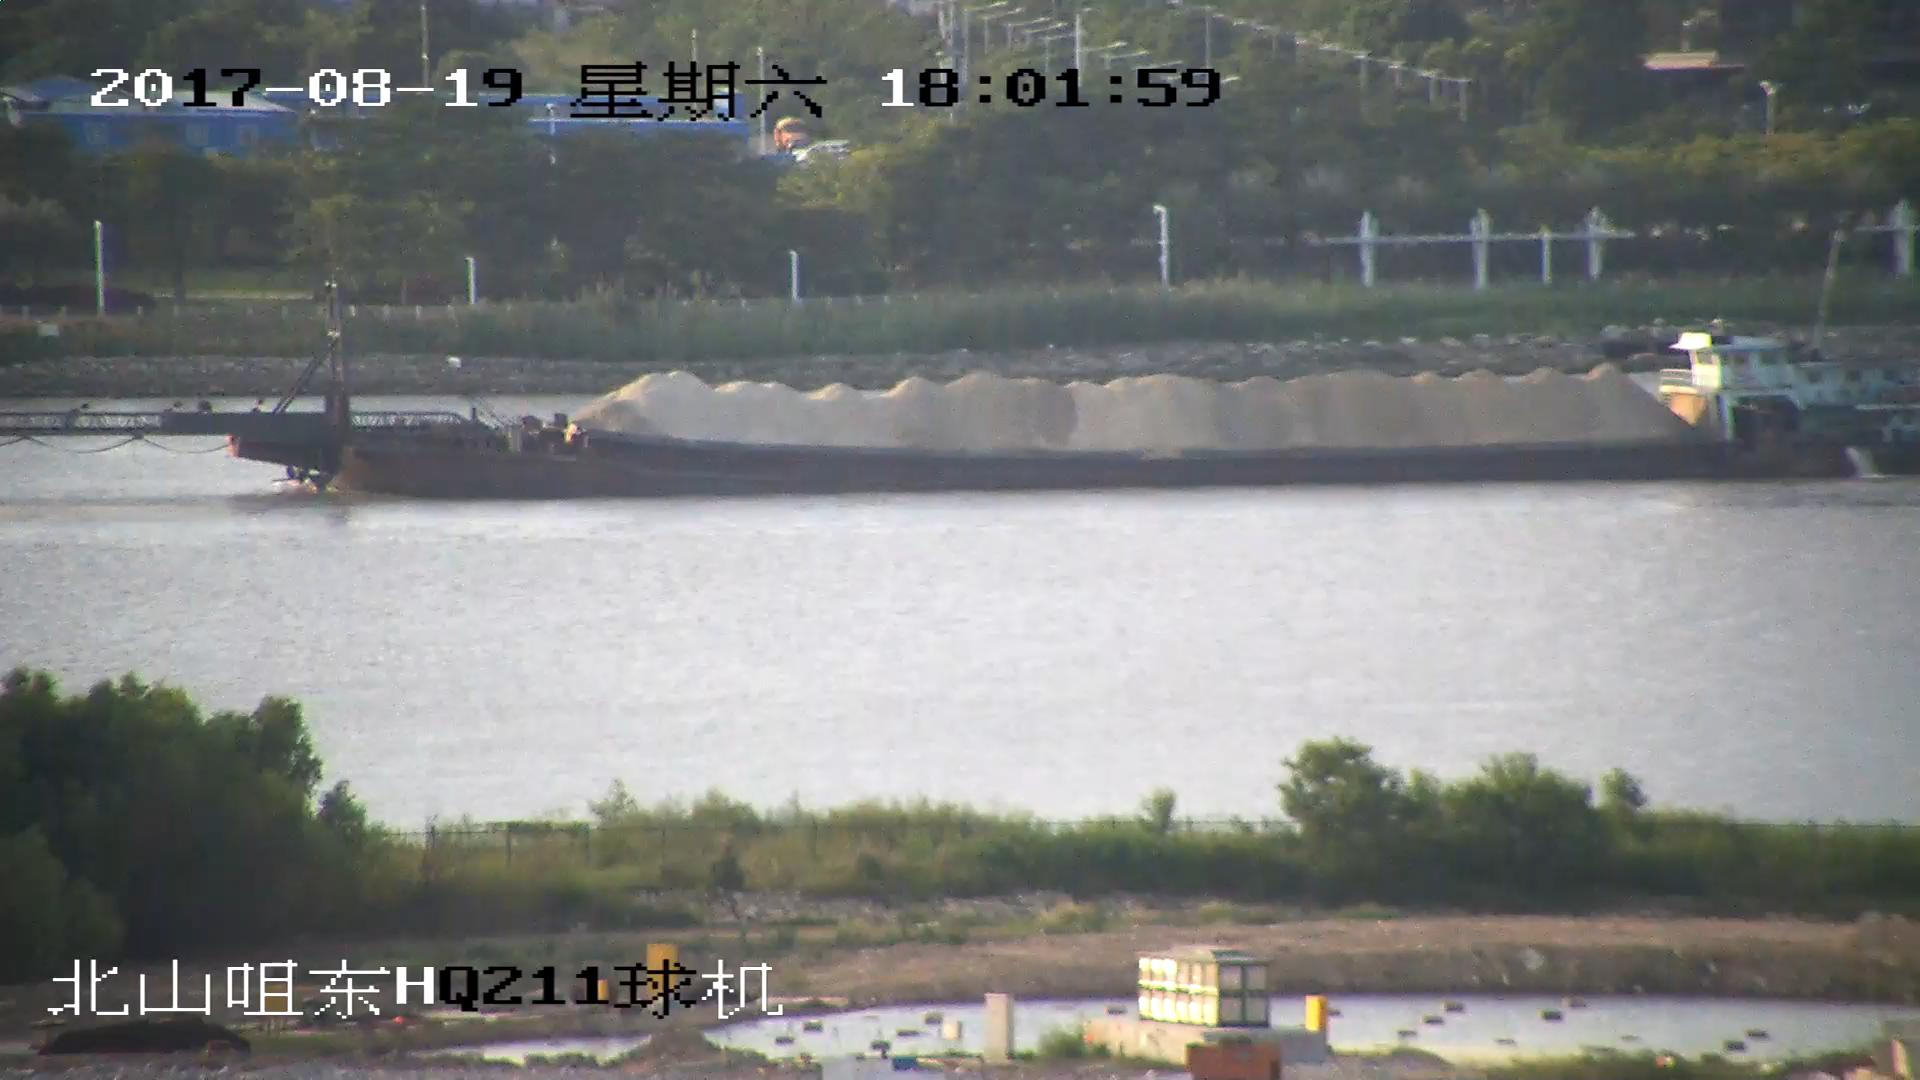ore carrier: (1, 280, 1920, 494)
